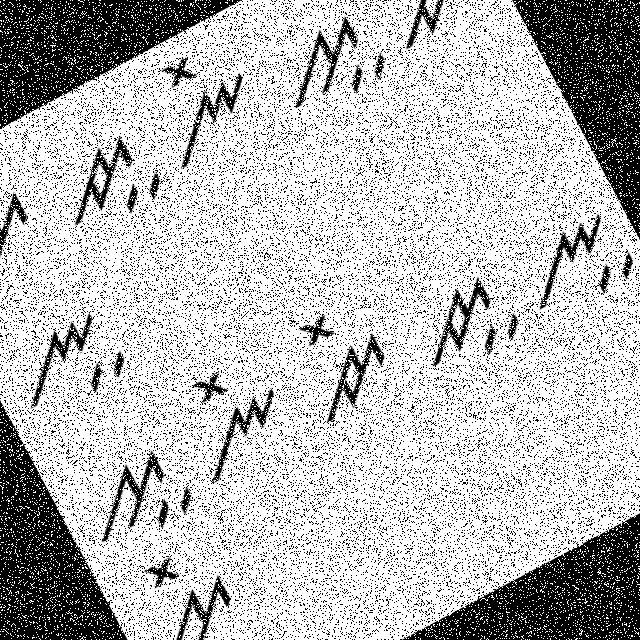jah: (391, 252, 531, 388), (36, 122, 172, 245)
jo: (276, 284, 413, 429), (351, 0, 492, 55)
nyah: (0, 284, 140, 428), (502, 191, 639, 328)
nyo: (159, 342, 305, 489), (127, 28, 273, 175)
sah: (262, 0, 400, 127), (68, 431, 200, 556)
so: (119, 531, 258, 639), (0, 149, 50, 290)
